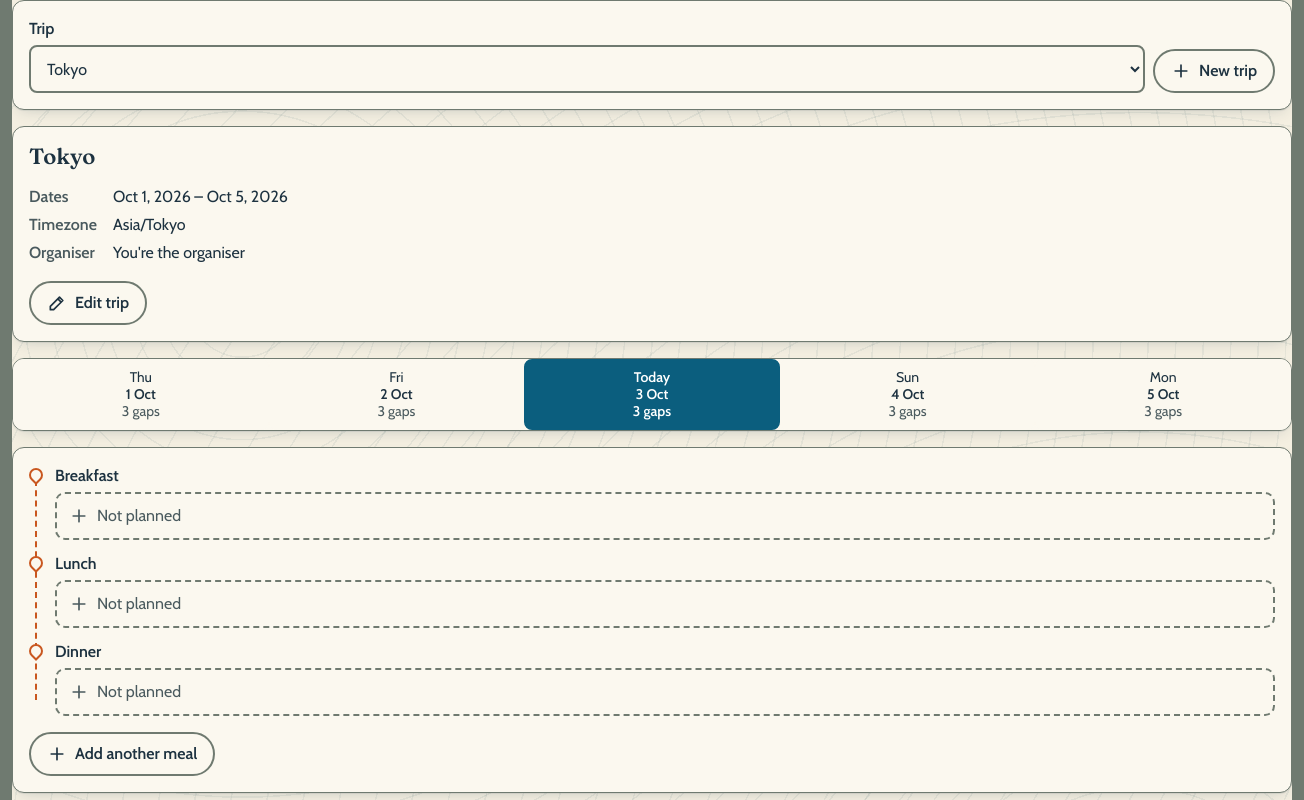
Test: editing a trip › while editing, switching trips and starting a new one wait
Click the button "Edit trip".
click(88, 303)  # box [29,281,147,325]
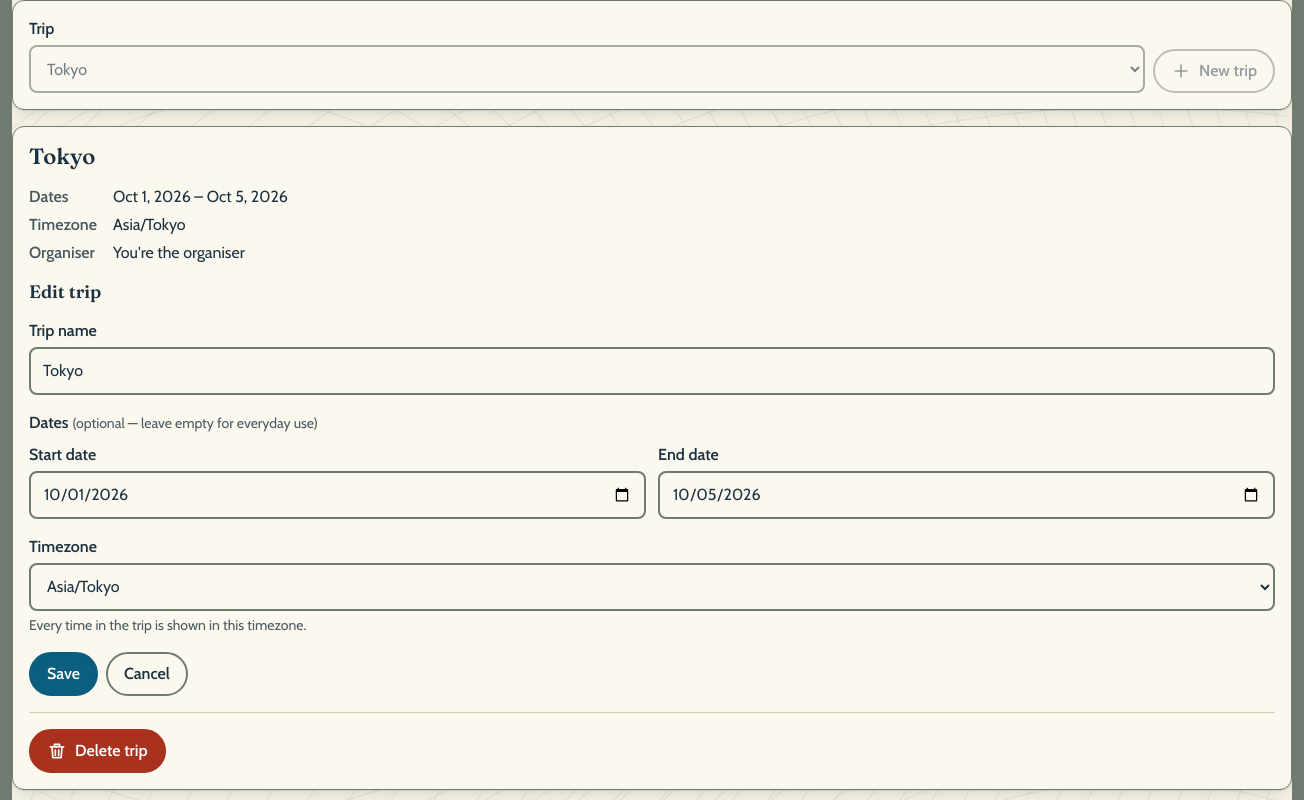
Expected: the button "New trip" is disabled, [1153,49,1275,93]
Click the button "Cancel".
click(147, 674)  # box [106,652,188,696]
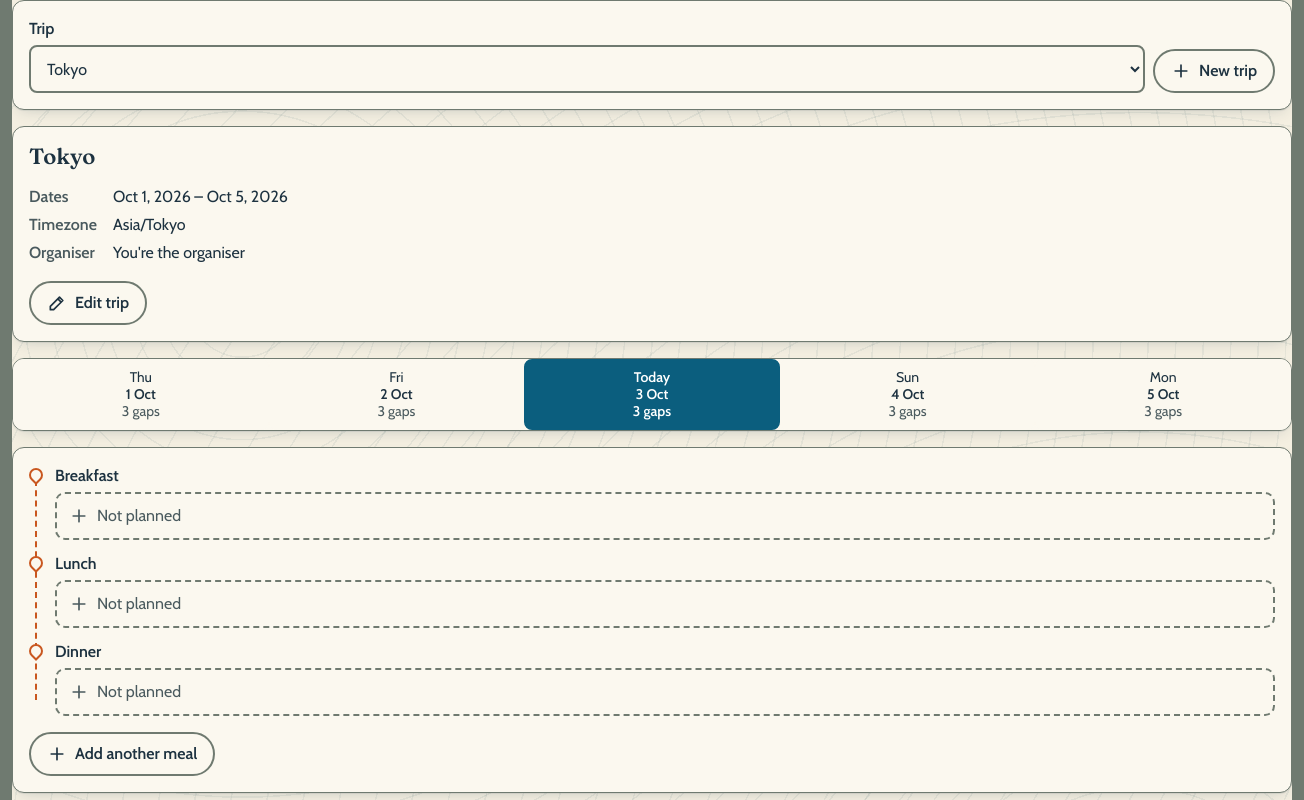
Expected: the button "New trip" is enabled, [1153,49,1275,93]
